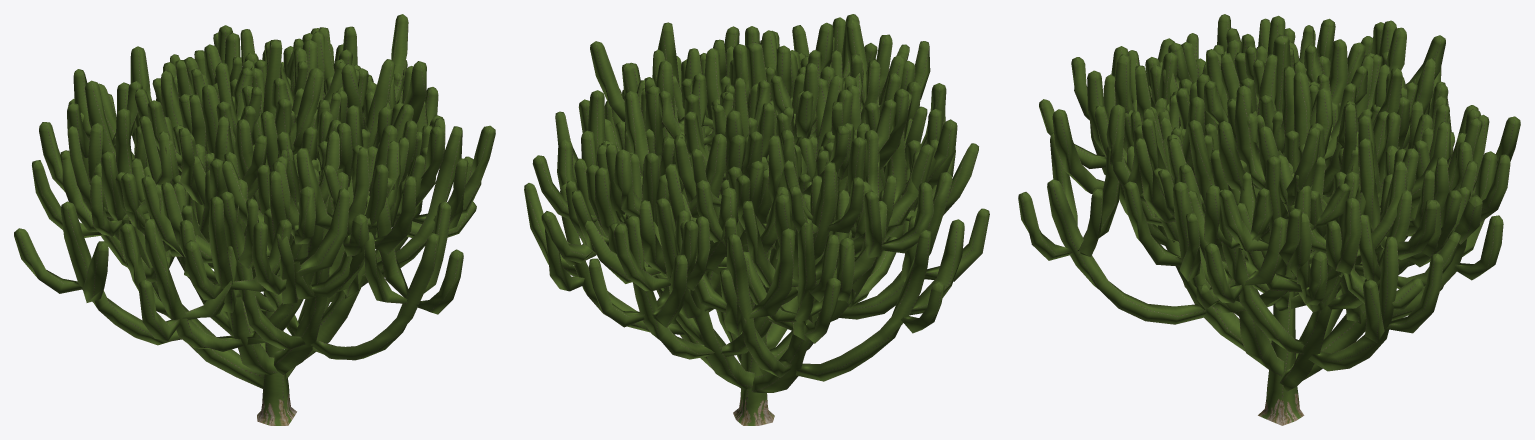
Rendered from Euphorbia candelabrum HD_Dwarf mat 75_LOD3.fbx.
3 views of the same model, side by side, from view 1: azimuth 30°, elevation 25°; view 2: azimuth 150°, elevation 25°; view 3: azimuth 270°, elevation 25° (orthographic).
Parts seen in each view (by area): view 1: Euphorbia_candelabrum_HD; view 2: Euphorbia_candelabrum_HD; view 3: Euphorbia_candelabrum_HD.
Part boxes in pixels (left/top/right/bottom): Euphorbia_candelabrum_HD: left=14, top=14, right=495, bottom=425; Euphorbia_candelabrum_HD: left=524, top=14, right=989, bottom=425; Euphorbia_candelabrum_HD: left=1018, top=14, right=1520, bottom=425.
Bounding box in the file's own units: 3.11 × 2.72 × 3.26.
Materials: 4 (4 with a texture image).
